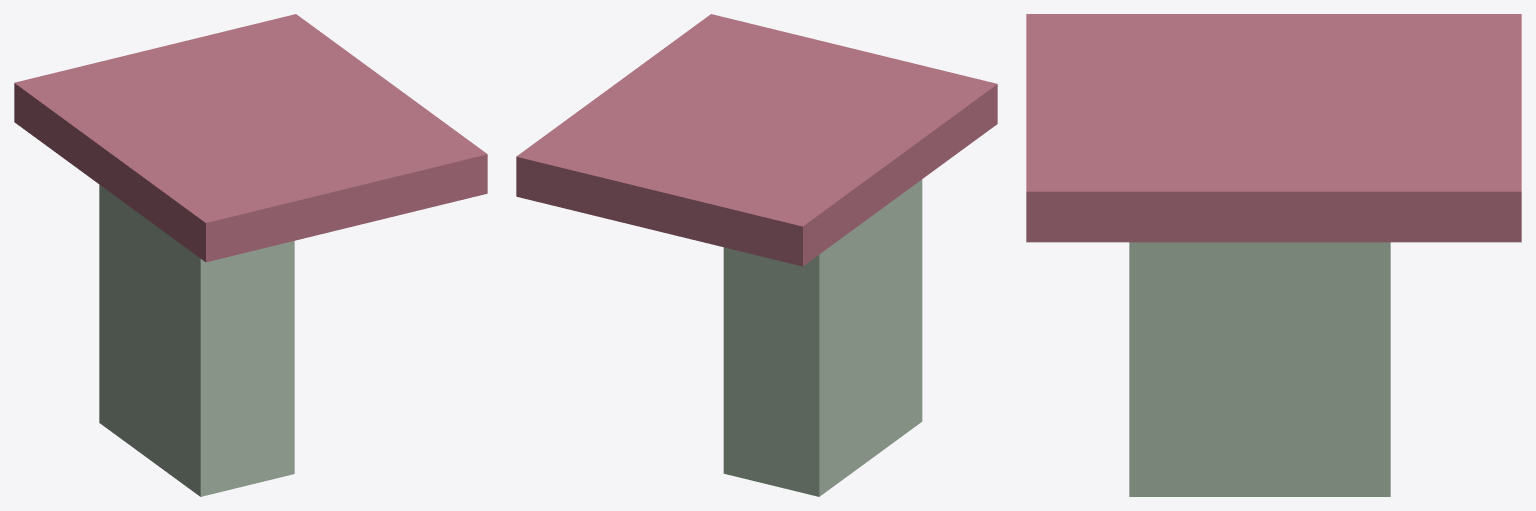
The picture shows the model from 3 angles, left to right: view 1: azimuth 30°, elevation 25°; view 2: azimuth 150°, elevation 25°; view 3: azimuth 270°, elevation 25°; orthographic projection. The views are drawn at different scales.
Parts seen in each view (by area): view 1: world; view 2: world; view 3: world.
Boxes of the visible parts, box(x1,y1,x2,y2) form: world: box(14, 14, 487, 496); world: box(516, 14, 997, 496); world: box(1026, 14, 1521, 496).
Size of the model in its own units: 4.5 by 4.75 by 5.3.
